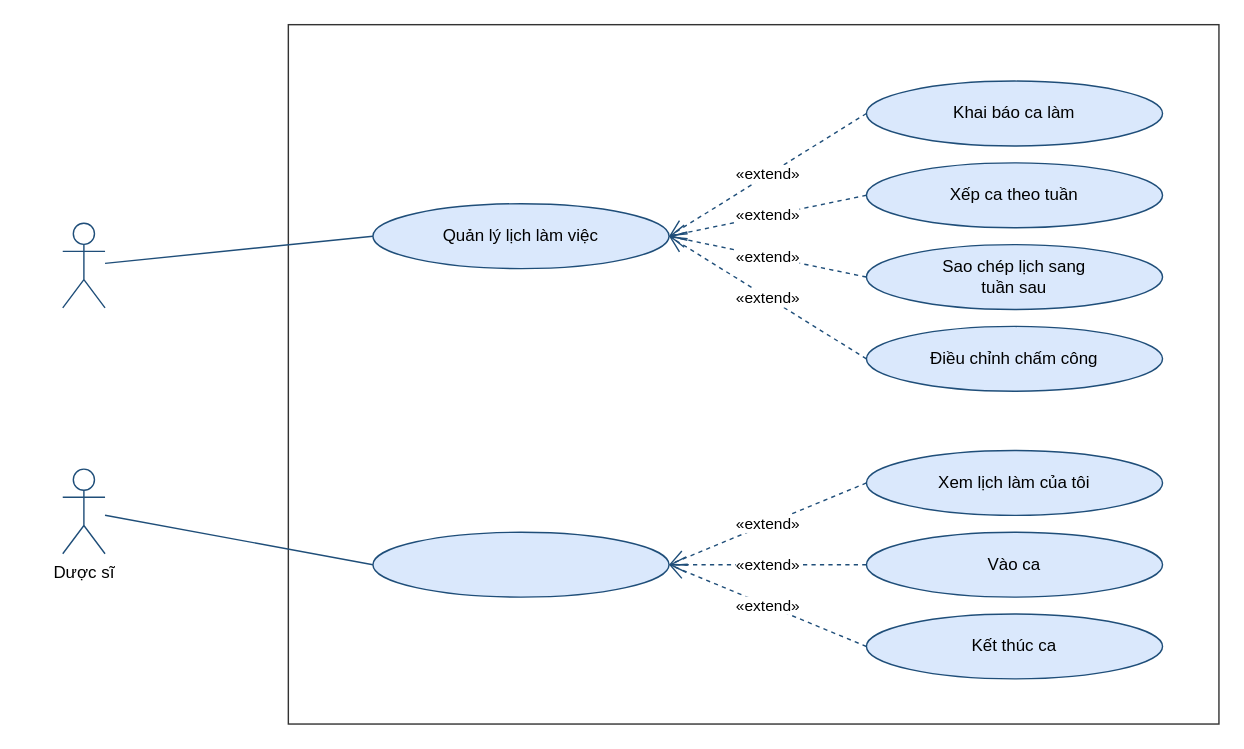
This 1244x749 diagram has some shape labels left out. Each missing label, with the centre of its shape:
Chấm công: (x=520, y=564)
Dược sĩ quản lý: (x=83, y=265)
